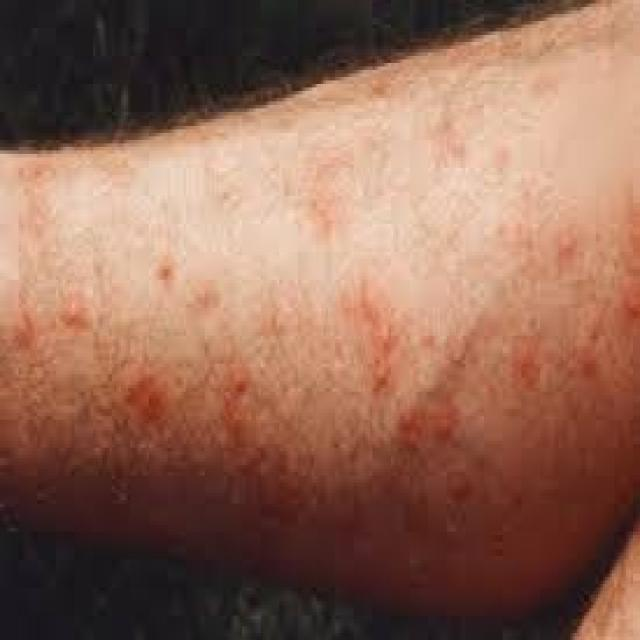kene: (350, 275, 402, 401), (124, 364, 169, 436), (58, 286, 93, 341)
